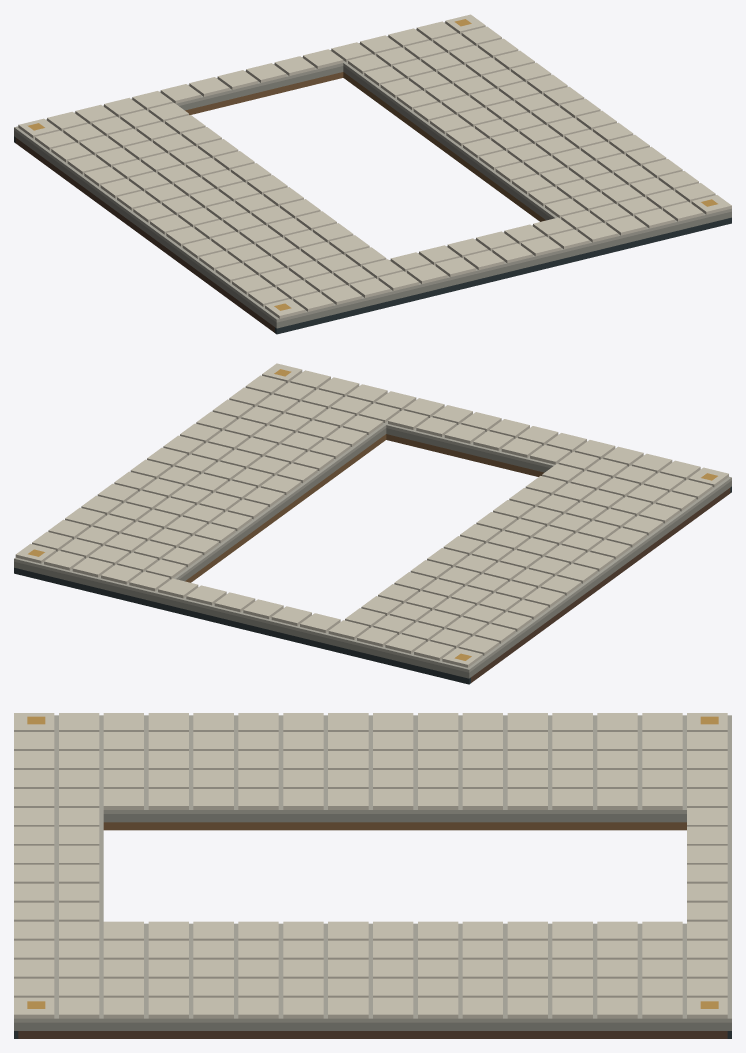
3 renders of one model, top to bottom at view 1: azimuth 30°, elevation 25°; view 2: azimuth 150°, elevation 25°; view 3: azimuth 270°, elevation 25°, orthographic. The views are drawn at different scales.
Visible parts, largest first — view 1: 旧楼楼梯井分片楼板; view 2: 旧楼楼梯井分片楼板; view 3: 旧楼楼梯井分片楼板.
Boxes of the visible parts, x1=… form: 旧楼楼梯井分片楼板: x1=14, y1=14, x2=731, y2=334; 旧楼楼梯井分片楼板: x1=14, y1=363, x2=731, y2=684; 旧楼楼梯井分片楼板: x1=14, y1=713, x2=731, y2=1038.
Bounding box in the file's own units: 6.4 × 0.24 × 6.4.
Materials: 7 (7 with a texture image).
